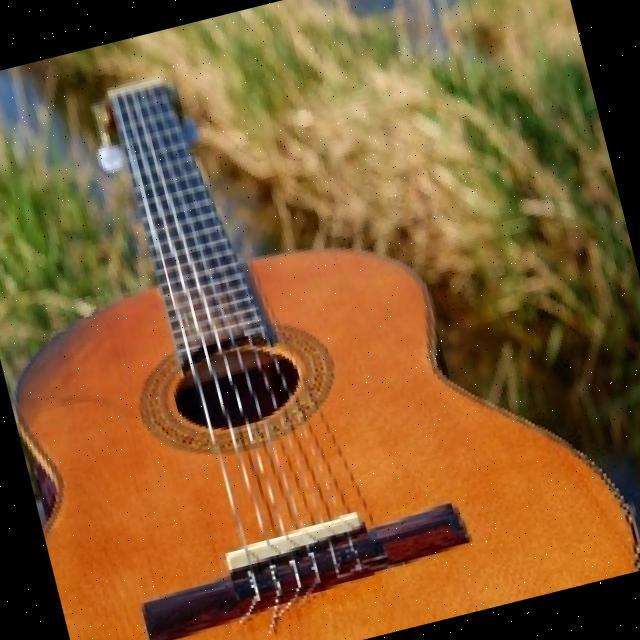acousticguitar: (17, 81, 638, 639)
